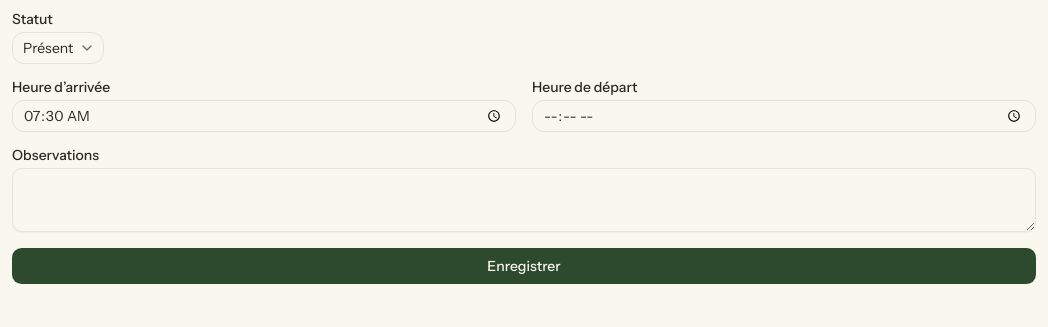
Test: AttendanceForm (correction — pointage déjà enregistré) › refuse une heure de départ antérieure ou égale à l’heure d’arrivée
Type "07:00" into the time field labelled "Heure de départ" at (784, 116), box [532,100,1036,132]
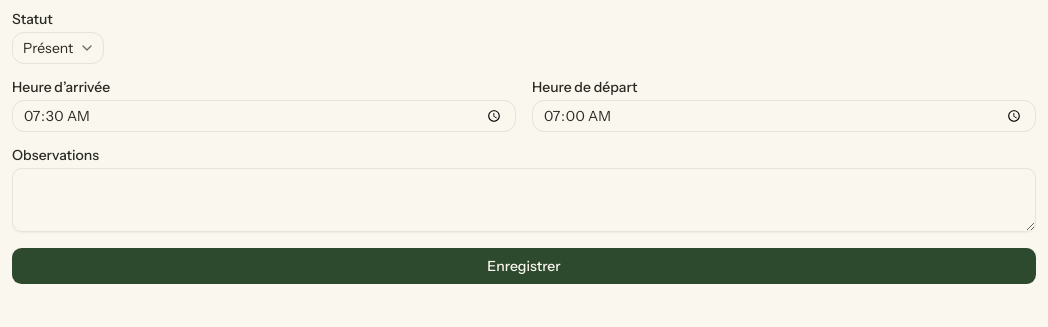
Click the button "Enregistrer" at (524, 266), box [12,248,1036,284]
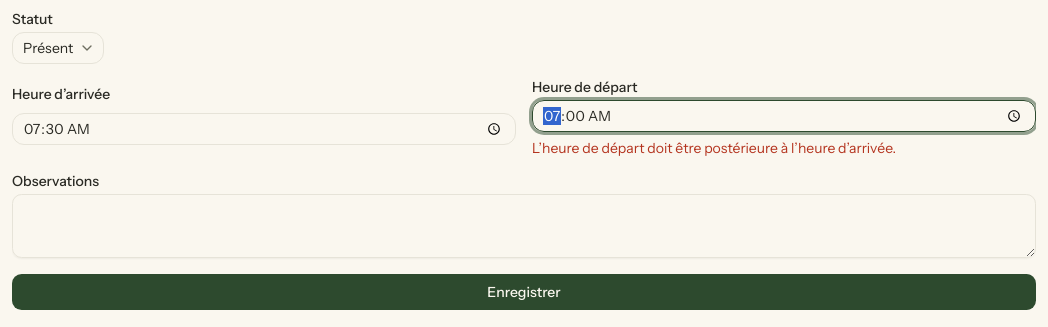
Now the text "L’heure de départ doit être postérieure à l’heure d’arrivée." is shown, box [532,139,896,157]
